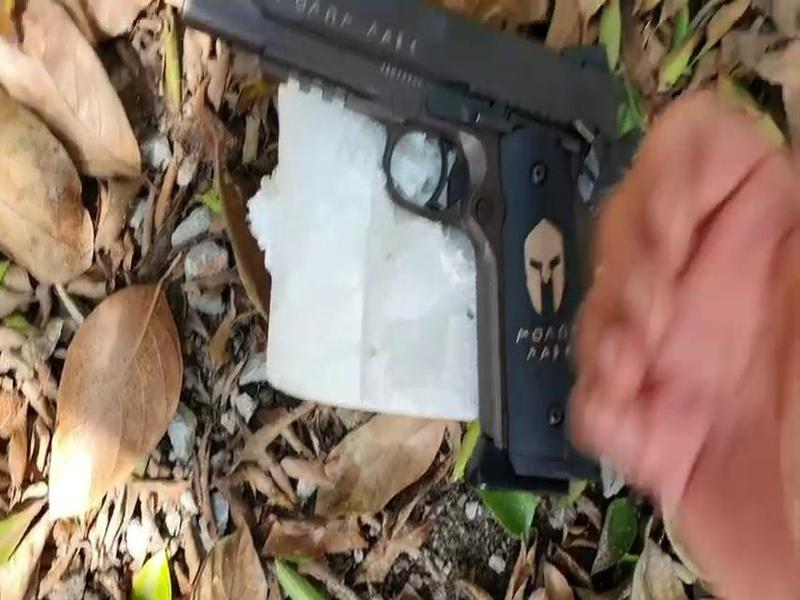Pistola: (155, 1, 624, 501)
